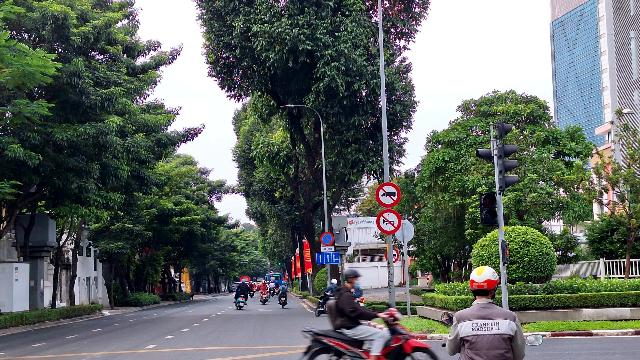cam-bop-coi: (376, 209, 402, 235)
cam-do-xe: (320, 232, 335, 246)
